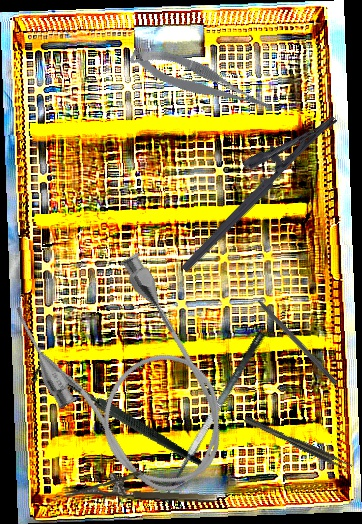Cannula: (3, 239, 253, 519)
Hook Surgical: (25, 316, 207, 521), (244, 284, 340, 387)
Micro Scissor: (127, 34, 275, 130)
Needle Holder: (158, 93, 340, 274), (63, 466, 219, 505)
Spatula Surgical: (154, 330, 280, 509)
Tissue Forceps: (243, 412, 354, 474)
